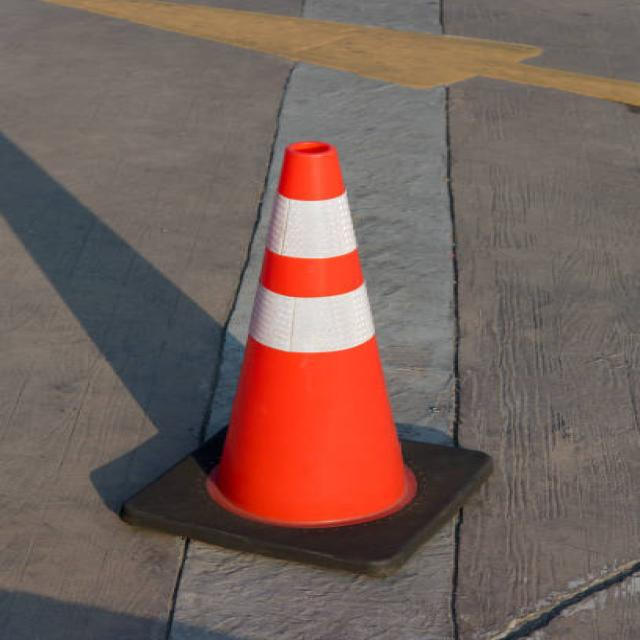Traffic Cone: (79, 92, 538, 591)
